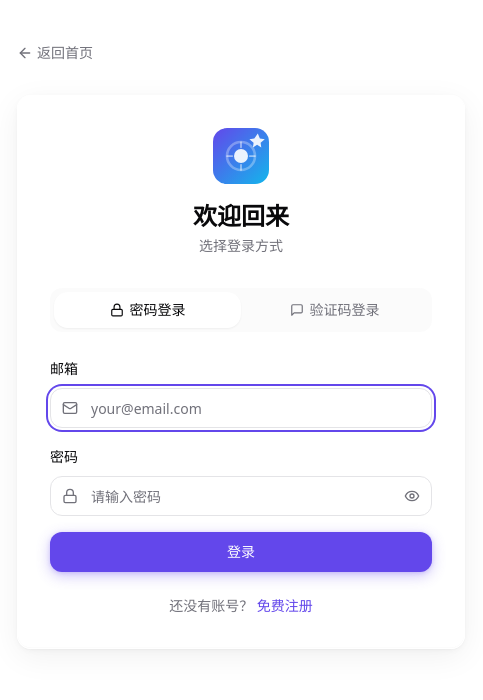
Test: 登录页面 - LoginPage › 密码登录 › 邮箱或密码错误时应显示友好错误提示
The width and height of the screenshot is (483, 700).
Type "user@example.com" into the field with test id "login-email" at (241, 408), box [50, 388, 432, 428]
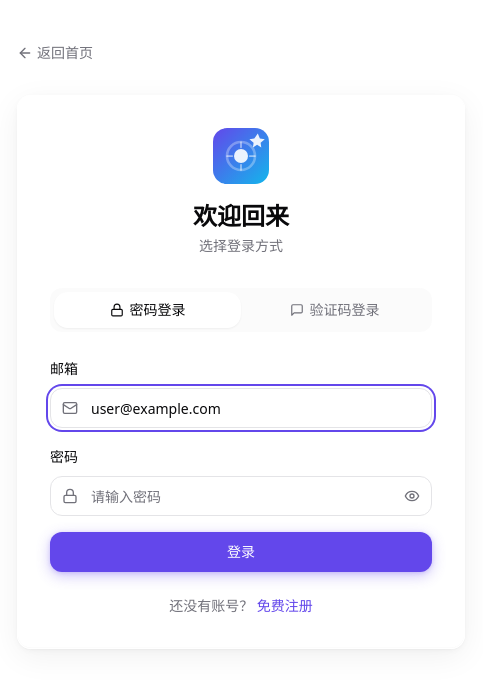
Type "wrongpass" into the password field with test id "login-password" at (241, 496), box [50, 476, 432, 516]
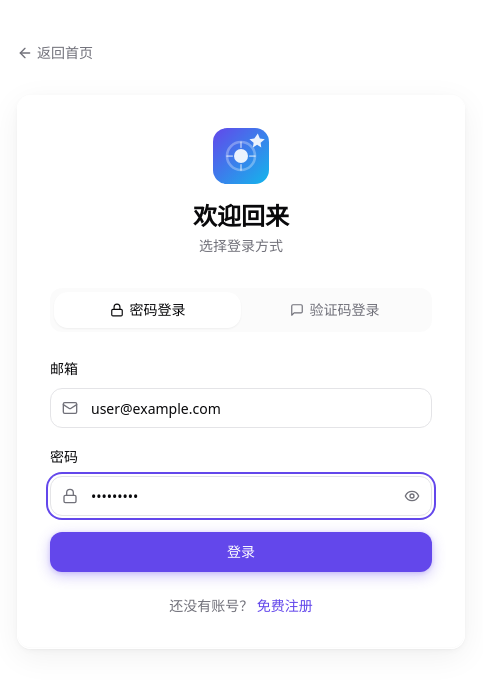
Click the button with test id "login-submit" at (241, 552), box [50, 532, 432, 572]
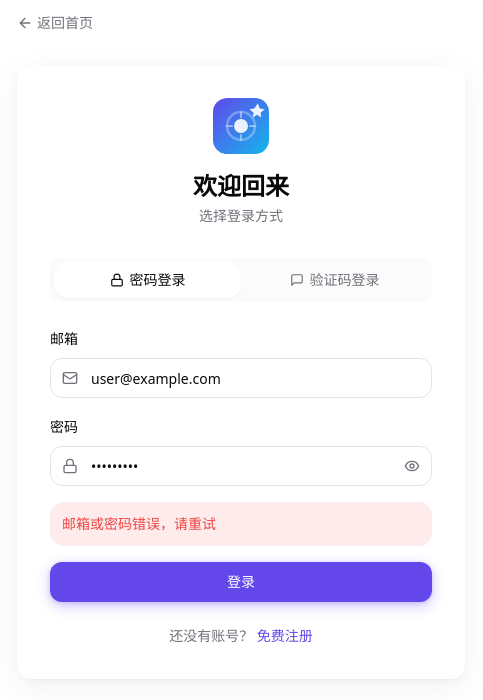
Expected: the text with test id "login-error" reads "邮箱或密码错误，请重试", [62, 514, 216, 533]
